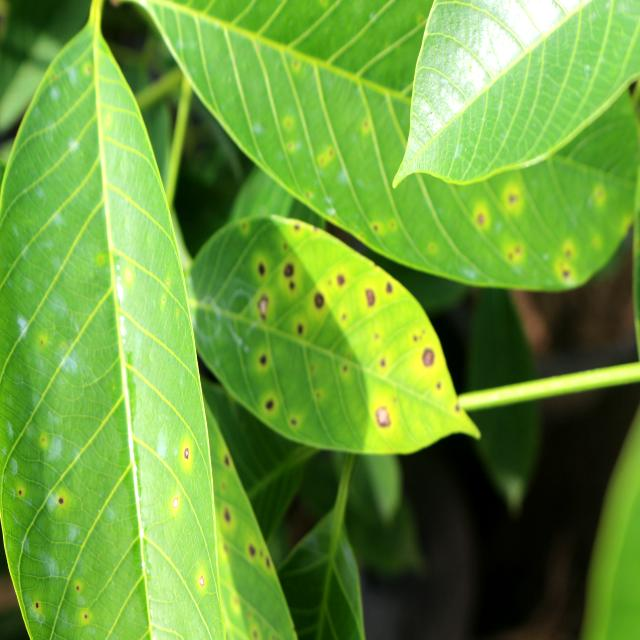Colletotrichum: (172, 497, 179, 509), (184, 448, 189, 460), (200, 576, 204, 586), (35, 603, 39, 609), (59, 498, 63, 504)
